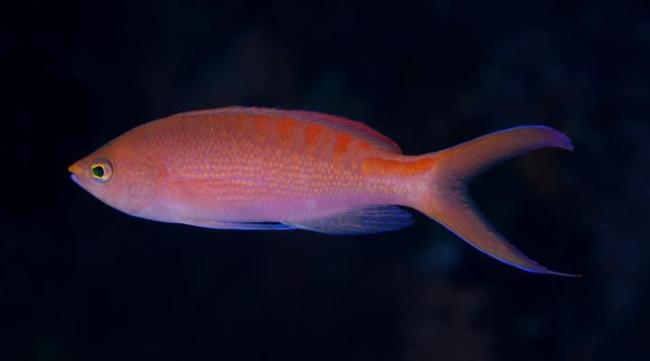fish: (67, 106, 584, 279)
